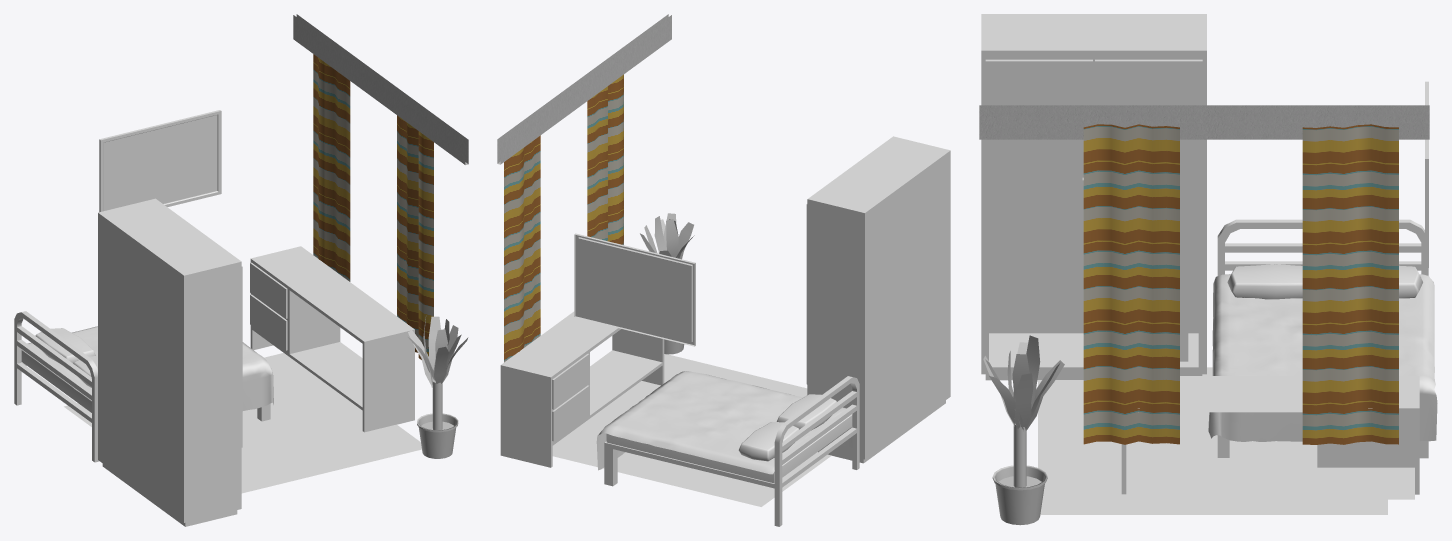
Rendered from Parentsroom.fbx.
3 renders of one model, left to right at view 1: azimuth 30°, elevation 25°; view 2: azimuth 150°, elevation 25°; view 3: azimuth 270°, elevation 25°, orthographic. The views are drawn at different scales.
Visible parts, largest first — view 1: apartments_wardrobe, apartments_curtains, apartments_bedtable, apartments_carpet, apartments_painting, apartments_parentsbed, apartments_plant, apartments_plantpot; view 2: apartments_wardrobe, apartments_parentsbed, apartments_curtains, apartments_bedtable, apartments_painting, apartments_carpet, apartments_plant; view 3: apartments_curtains, apartments_wardrobe, apartments_parentsbed, apartments_bedtable, apartments_carpet, apartments_plant, apartments_plantpot, apartments_painting.
Boxes of the visible parts, left/top/right/bottom form: apartments_wardrobe: left=98, top=198, right=242, bottom=526; apartments_curtains: left=293, top=14, right=468, bottom=359; apartments_bedtable: left=250, top=246, right=414, bottom=432; apartments_carpet: left=64, top=353, right=421, bottom=493; apartments_painting: left=99, top=110, right=221, bottom=212; apartments_parentsbed: left=14, top=311, right=273, bottom=462; apartments_plant: left=408, top=315, right=468, bottom=430; apartments_plantpot: left=417, top=413, right=458, bottom=458; apartments_wardrobe: left=806, top=136, right=950, bottom=463; apartments_parentsbed: left=596, top=371, right=859, bottom=526; apartments_curtains: left=497, top=14, right=671, bottom=362; apartments_bedtable: left=500, top=311, right=664, bottom=467; apartments_painting: left=574, top=233, right=695, bottom=346; apartments_carpet: left=552, top=354, right=831, bottom=506; apartments_plant: left=640, top=213, right=694, bottom=259; apartments_curtains: left=979, top=105, right=1429, bottom=444; apartments_wardrobe: left=981, top=14, right=1206, bottom=380; apartments_parentsbed: left=1208, top=219, right=1437, bottom=458; apartments_bedtable: left=1121, top=376, right=1419, bottom=499; apartments_carpet: left=1038, top=367, right=1387, bottom=514; apartments_plant: left=983, top=335, right=1064, bottom=487; apartments_plantpot: left=992, top=465, right=1047, bottom=525; apartments_painting: left=1425, top=81, right=1428, bottom=267.
Bounding box in the file's own units: 251 × 264 × 262.
